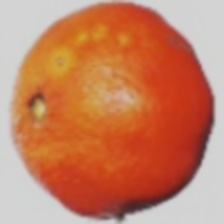tangerine: (5, 13, 198, 182)
